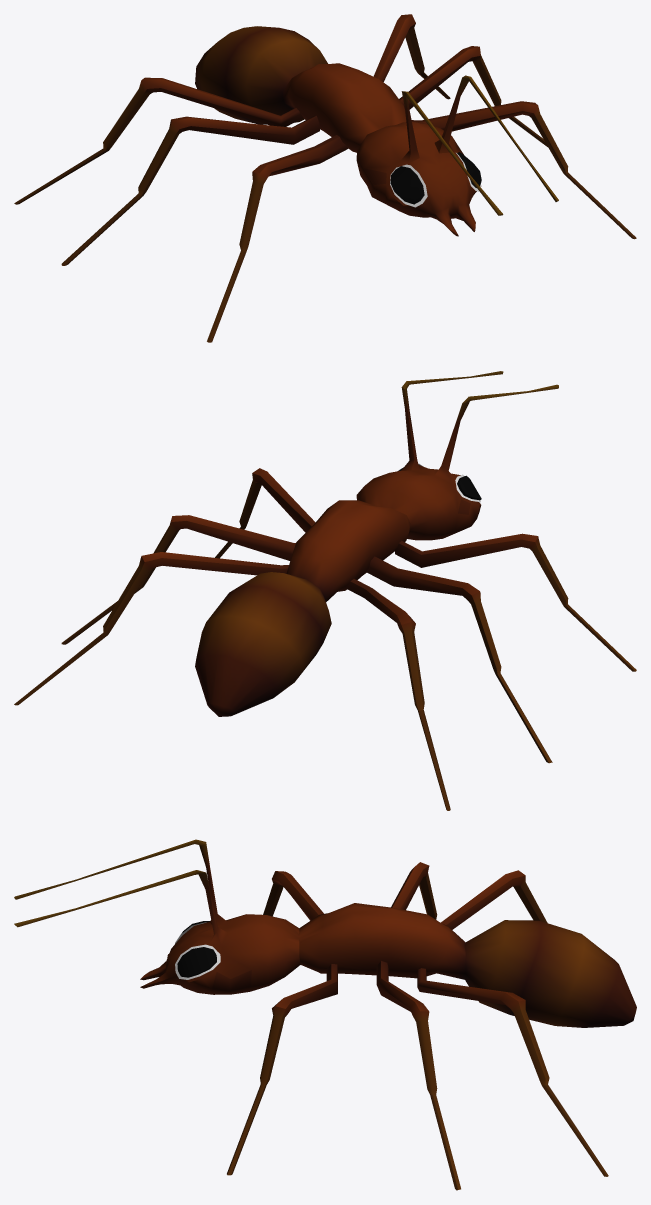
The picture shows the model from 3 angles, top to bottom: view 1: azimuth 30°, elevation 25°; view 2: azimuth 150°, elevation 25°; view 3: azimuth 270°, elevation 25°; orthographic projection.
Visible parts, largest first — view 1: base.004; view 2: base.004; view 3: base.004.
Boxes of the visible parts, bbox=[...] form: base.004: bbox=[14, 14, 636, 342]; base.004: bbox=[14, 371, 636, 810]; base.004: bbox=[14, 839, 636, 1190].
Size of the model in its own units: 0.452 by 0.1916 by 0.5.
